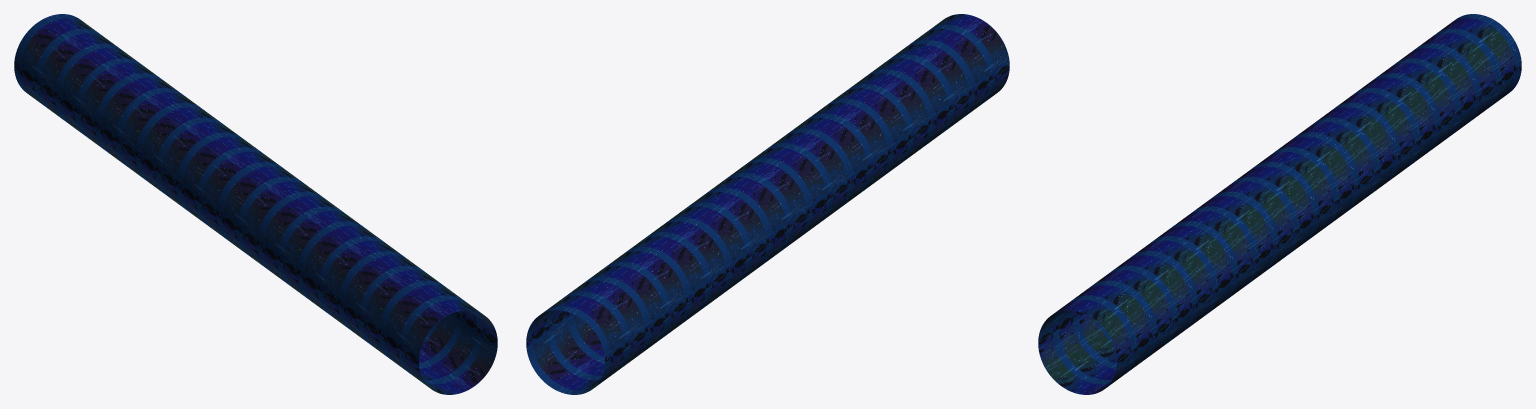
The model's file is warp_tunnel.obj.
3 views of the same model, side by side, from view 1: azimuth 30°, elevation 25°; view 2: azimuth 150°, elevation 25°; view 3: azimuth 330°, elevation 25° (orthographic).
Bounding box in the file's own units: 36 × 36 × 320.
